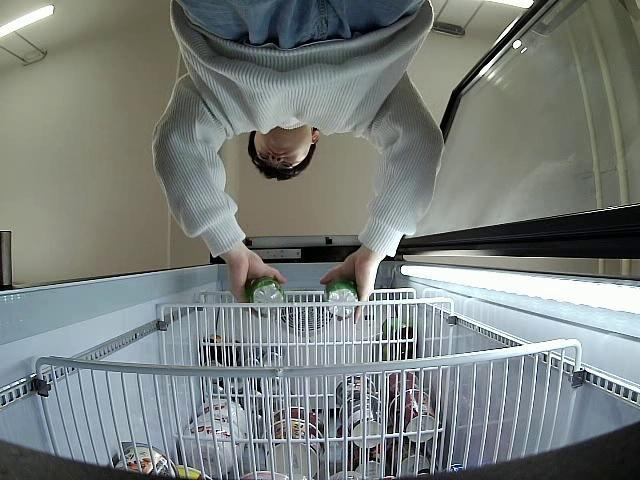18_trevi: (247, 276, 286, 318), (322, 278, 358, 320)
